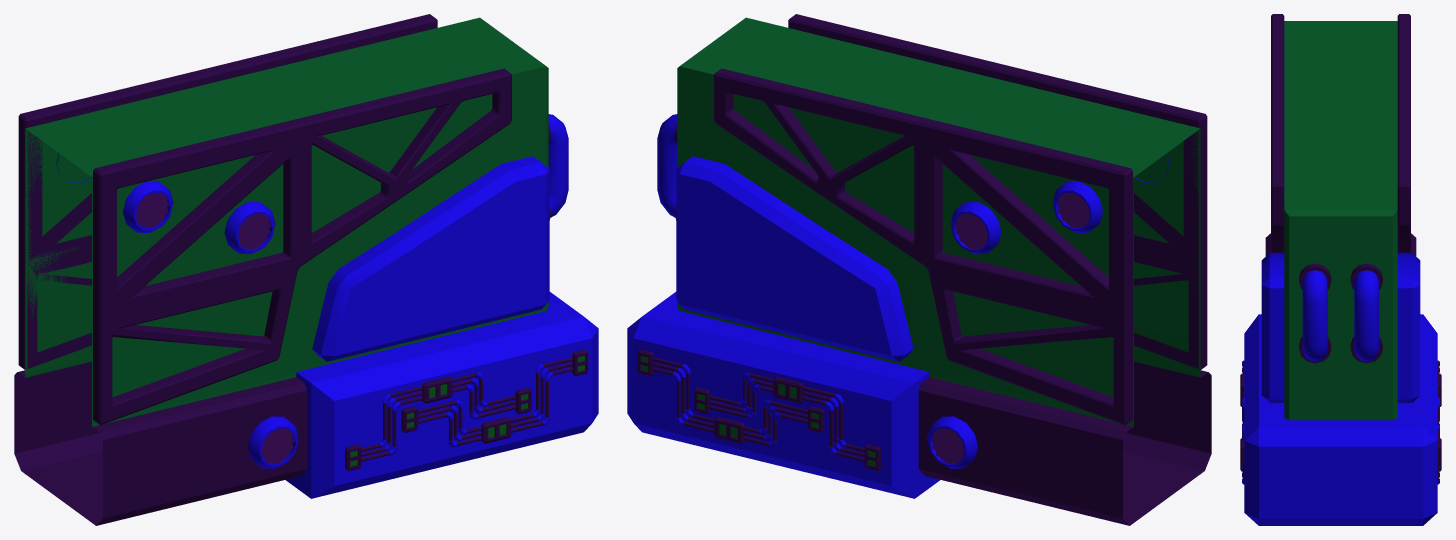
Rendered from OBJ_Corniche_mur.fbx.
The picture shows the model from 3 angles, left to right: view 1: azimuth 30°, elevation 25°; view 2: azimuth 150°, elevation 25°; view 3: azimuth 270°, elevation 25°; orthographic projection. The views are drawn at different scales.
Parts seen in each view (by area): view 1: OBJ_oOrniche_mur; view 2: OBJ_oOrniche_mur; view 3: OBJ_oOrniche_mur.
Part boxes in pixels (x1,y1,x2,y2): OBJ_oOrniche_mur: (14, 14, 598, 525); OBJ_oOrniche_mur: (627, 14, 1211, 525); OBJ_oOrniche_mur: (1240, 14, 1441, 525).
Size of the model in its own units: 57.9 by 41.5 by 24.06.
